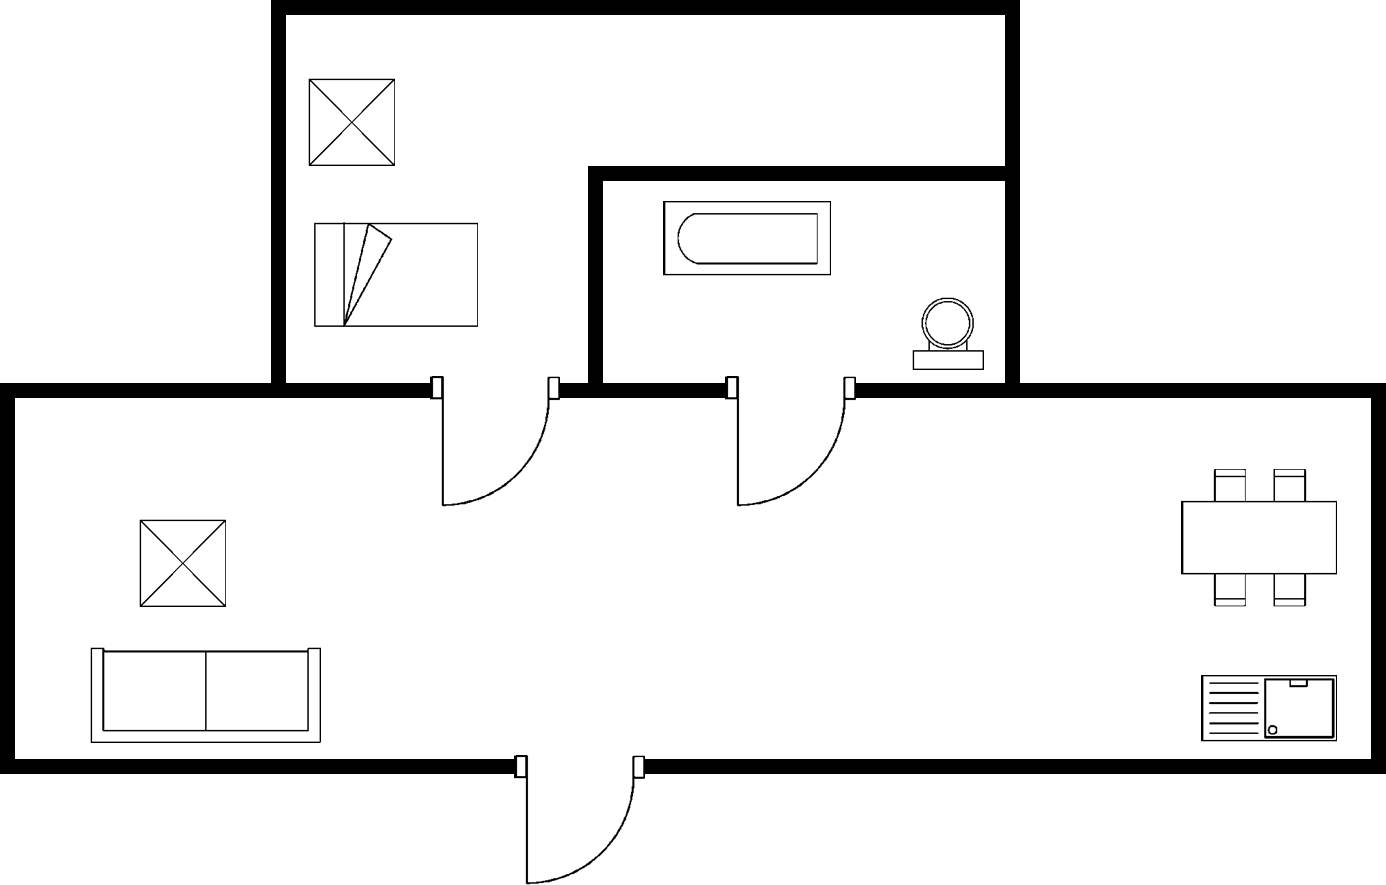bed: (309, 216, 484, 336)
coffee_table: (301, 70, 402, 173), (134, 513, 233, 613)
dining_table: (1174, 462, 1344, 611)
large_sink: (906, 290, 991, 375)
large_sofa: (82, 641, 327, 748)
sink: (1192, 668, 1343, 750)
tub: (654, 195, 838, 281)
